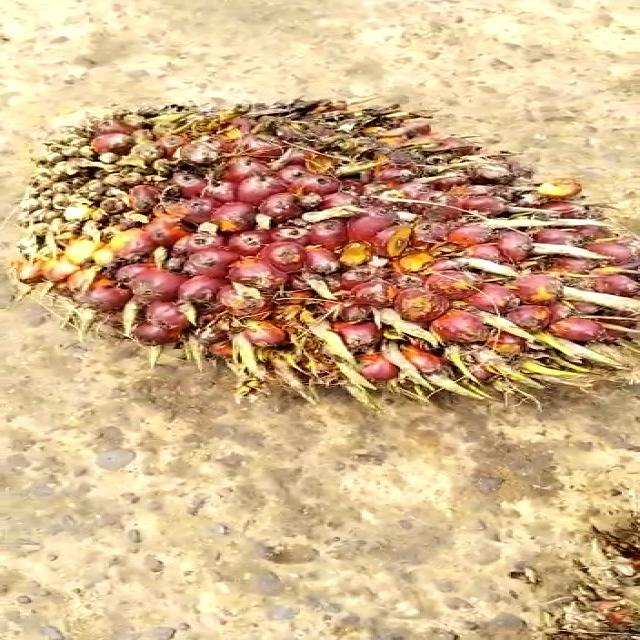palm oil: (5, 90, 640, 414)
